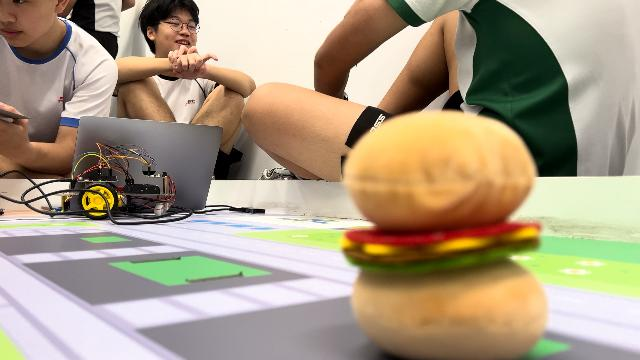burger: (336, 108, 552, 356)
